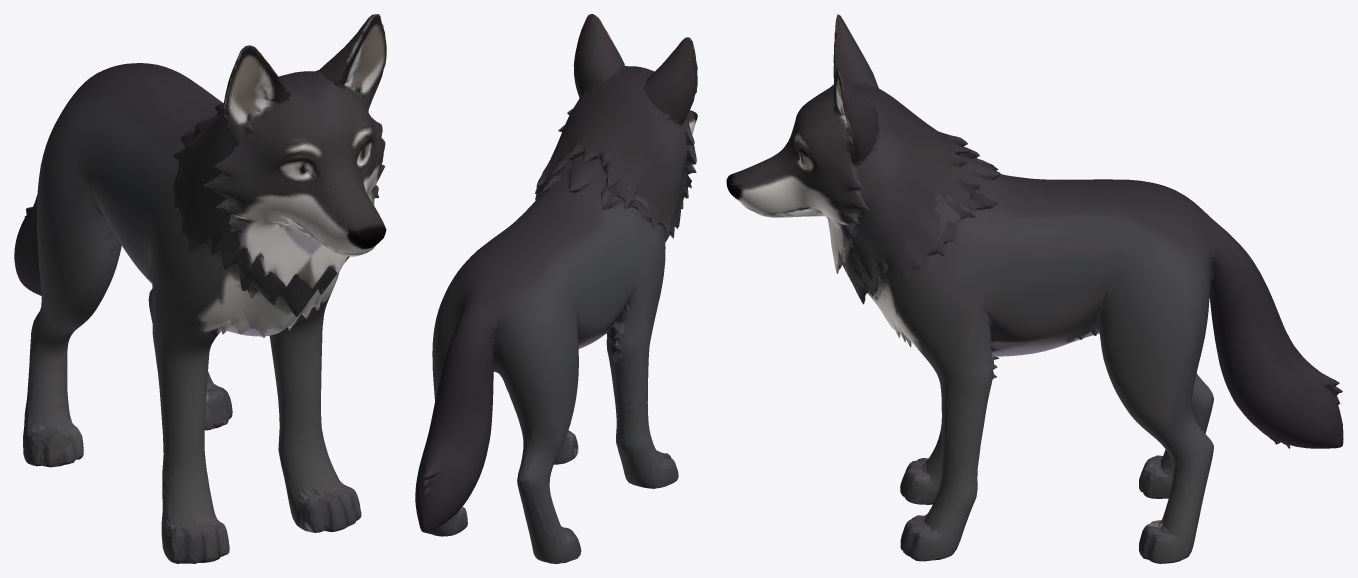
Rendered from wolf.glb.
3 renders of one model, left to right at view 1: azimuth 30°, elevation 25°; view 2: azimuth 150°, elevation 25°; view 3: azimuth 270°, elevation 25°, orthographic. The views are drawn at different scales.
Parts seen in each view (by area): view 1: wolf; view 2: wolf; view 3: wolf.
Boxes of the visible parts, x1,y1,x2,y2 form: wolf: (14,14,386,563); wolf: (415,14,697,563); wolf: (726,14,1343,563).
Size of the model in its own units: 0.6299 by 1.63 by 1.9.
1 material, 1 textured.
